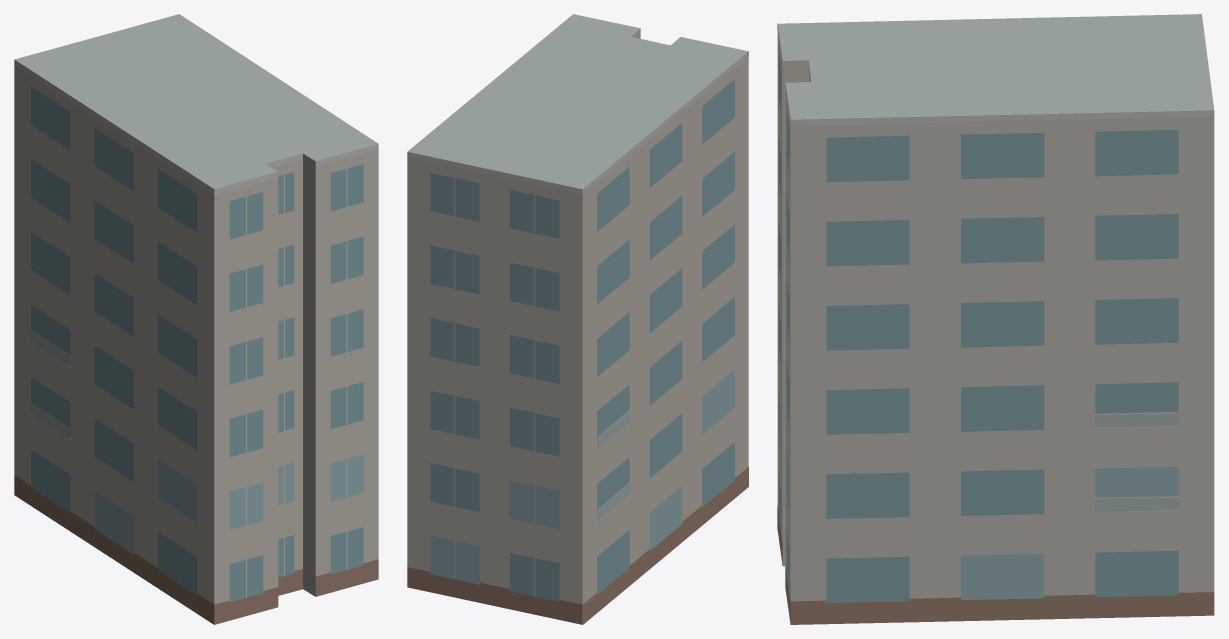
The model's file is survey-upis-32937844.glb.
3 renders of one model, left to right at view 1: azimuth 30°, elevation 25°; view 2: azimuth 150°, elevation 25°; view 3: azimuth 270°, elevation 25°, orthographic. The views are drawn at different scales.
Visible parts, largest first — view 1: survey-upis-32937844.tmp; view 2: survey-upis-32937844.tmp; view 3: survey-upis-32937844.tmp.
Boxes of the visible parts, x1,y1,x2,y2 form: survey-upis-32937844.tmp: (14, 14, 378, 624); survey-upis-32937844.tmp: (407, 14, 748, 624); survey-upis-32937844.tmp: (777, 14, 1214, 624).
Bounding box in the file's own units: 8.63 × 19.2 × 15.05.
